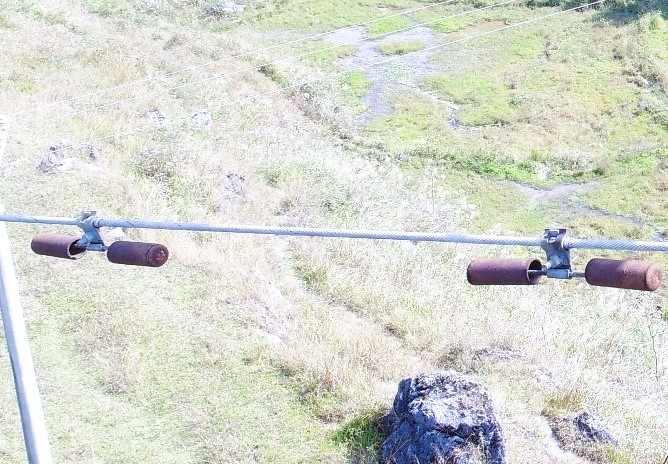Shockproof hammer: (464, 224, 667, 296), (25, 207, 174, 274)
